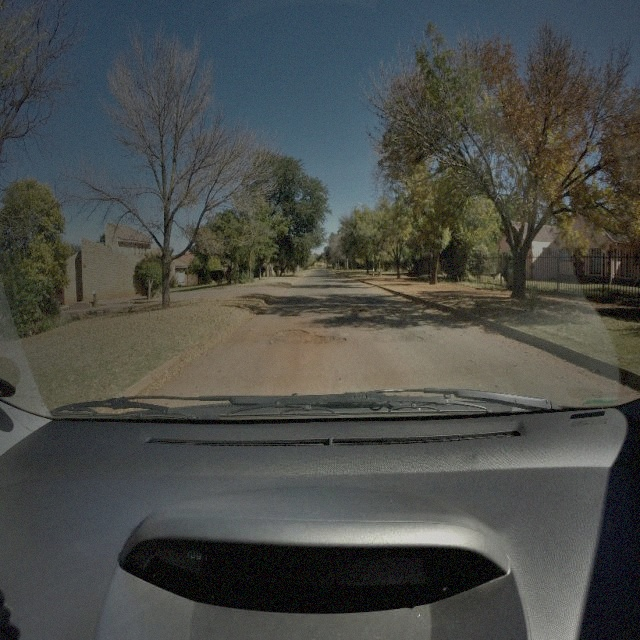pothole: (273, 326, 348, 347)
